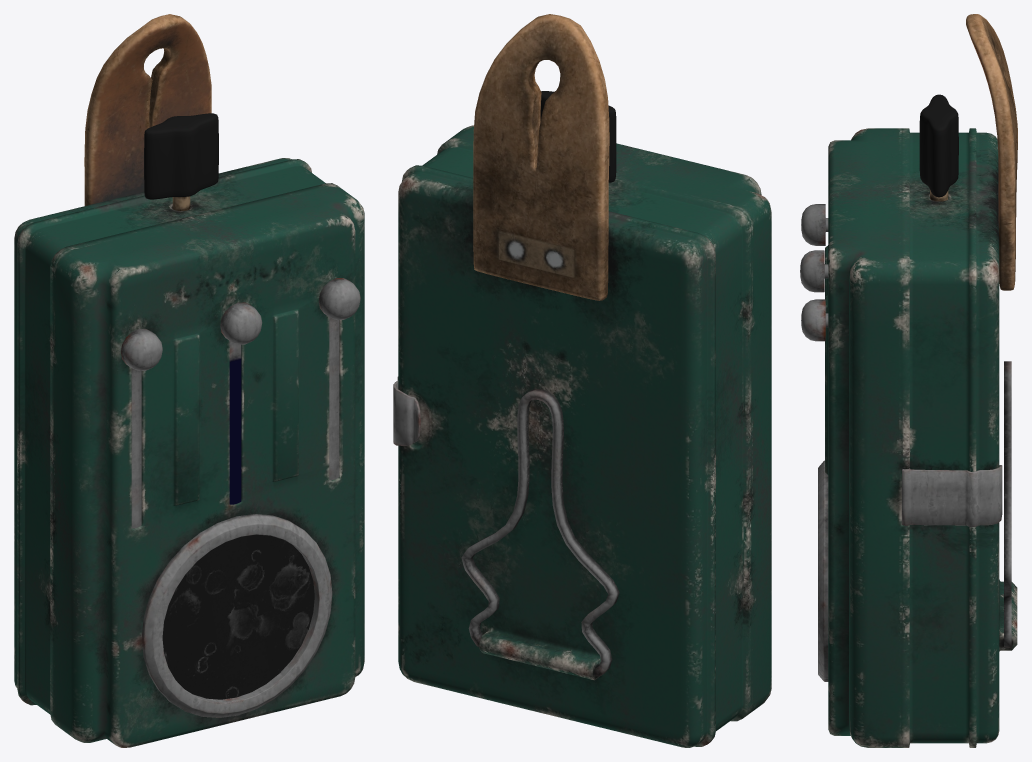
The model's file is signal_flashlight.glb.
The picture shows the model from 3 angles, left to right: view 1: azimuth 30°, elevation 25°; view 2: azimuth 150°, elevation 25°; view 3: azimuth 270°, elevation 25°; orthographic projection. The views are drawn at different scales.
Visible parts, largest first — view 1: signal_flashlight, signal_flashlight_switch, signal_flashlight_signal_b, signal_flashlight_signal_r, signal_flashlight_signal_g; view 2: signal_flashlight, signal_flashlight_clip, signal_flashlight_switch; view 3: signal_flashlight, signal_flashlight_switch, signal_flashlight_clip, signal_flashlight_signal_b, signal_flashlight_signal_r, signal_flashlight_signal_g.
Part boxes in pixels (box(x1,y1,x2,y2)): signal_flashlight: box(14, 14, 364, 747); signal_flashlight_switch: box(144, 113, 218, 210); signal_flashlight_signal_b: box(220, 302, 262, 504); signal_flashlight_signal_r: box(318, 278, 360, 480); signal_flashlight_signal_g: box(120, 328, 162, 528); signal_flashlight: box(393, 14, 771, 747); signal_flashlight_clip: box(461, 389, 619, 676); signal_flashlight_switch: box(540, 91, 616, 182); signal_flashlight: box(818, 14, 1017, 747); signal_flashlight_switch: box(919, 94, 958, 201); signal_flashlight_clip: box(1004, 361, 1011, 647); signal_flashlight_signal_b: box(800, 250, 828, 292); signal_flashlight_signal_r: box(801, 299, 828, 341); signal_flashlight_signal_g: box(801, 204, 828, 245).
Size of the model in its own units: 0.071 by 0.1499 by 0.0445.
Materials: 3 (3 with a texture image).
